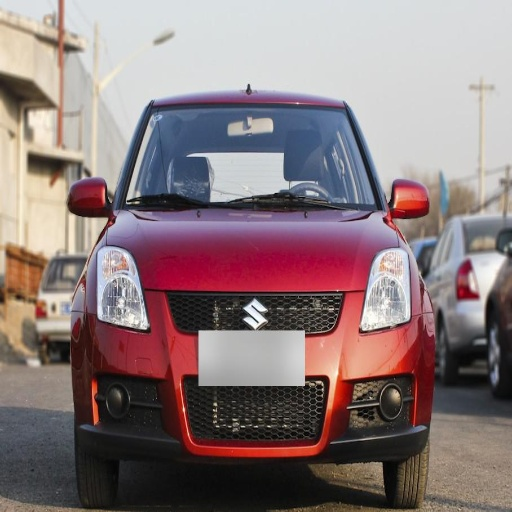front_bumper: (82, 289, 430, 459)
front_right_light: (82, 247, 152, 333)
hood: (108, 209, 400, 290)
left_mirror: (391, 180, 428, 220)
